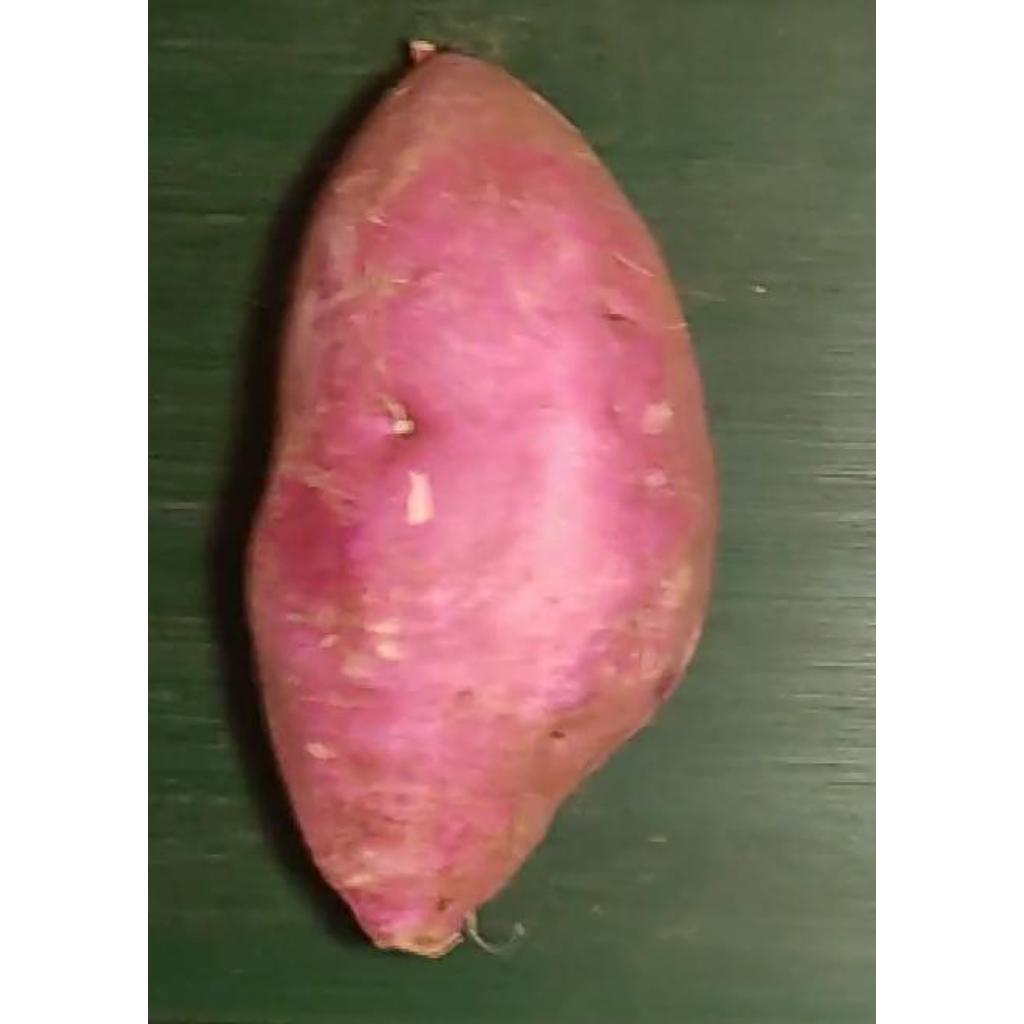Sweet Potato: (244, 44, 717, 961)
